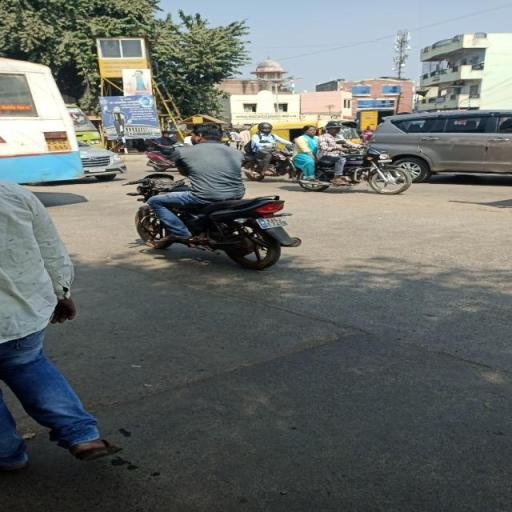bike: (120, 120, 302, 269)
numberplate: (256, 210, 292, 230)
withouthelmet: (193, 124, 223, 144)
